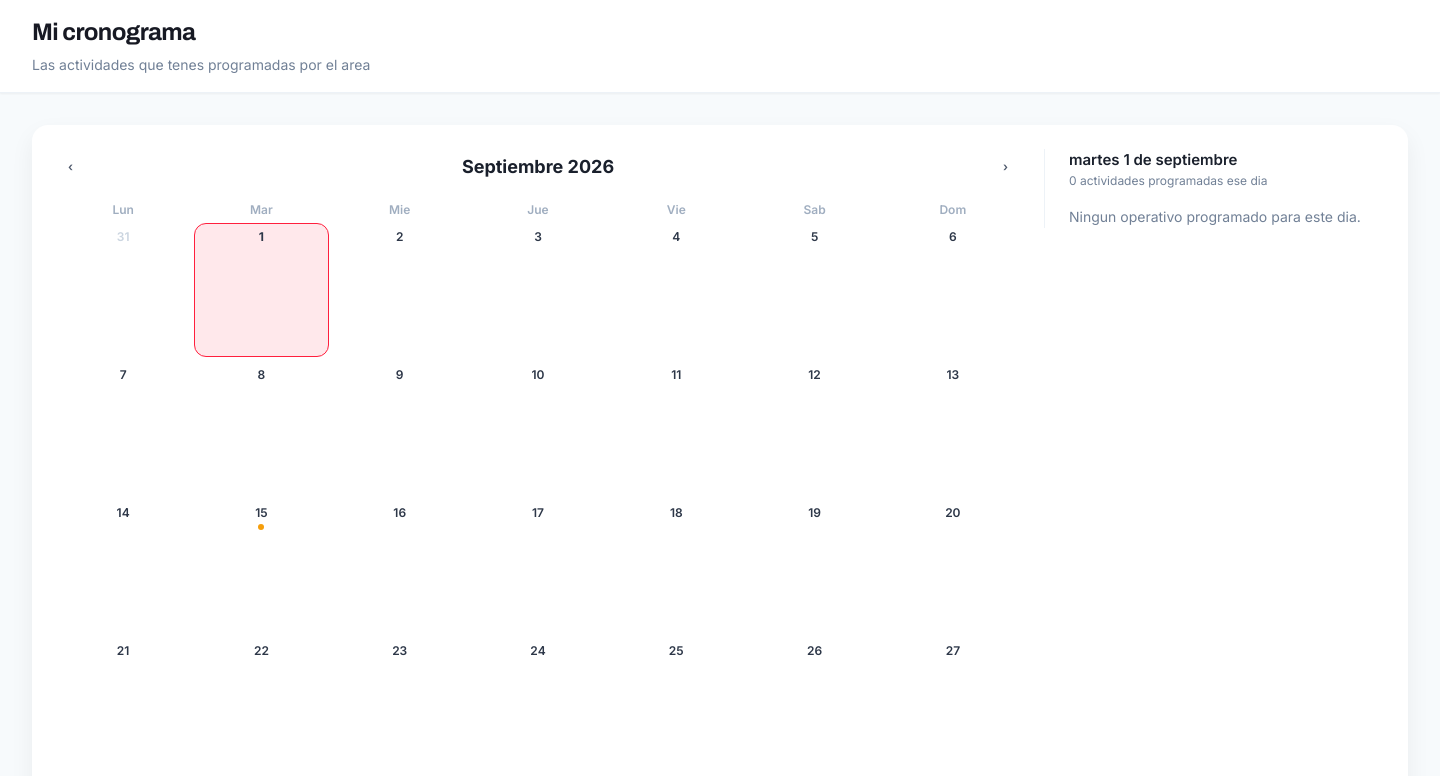
Test: CronogramaPage › muestra con quien se comparte una tarea asignada a varios gestores
Expected: the heading "Septiembre 2026" is shown, [462,154,614,179]
Click the button named "15 de septiembre" at (261, 566), box [194,499,329,634]
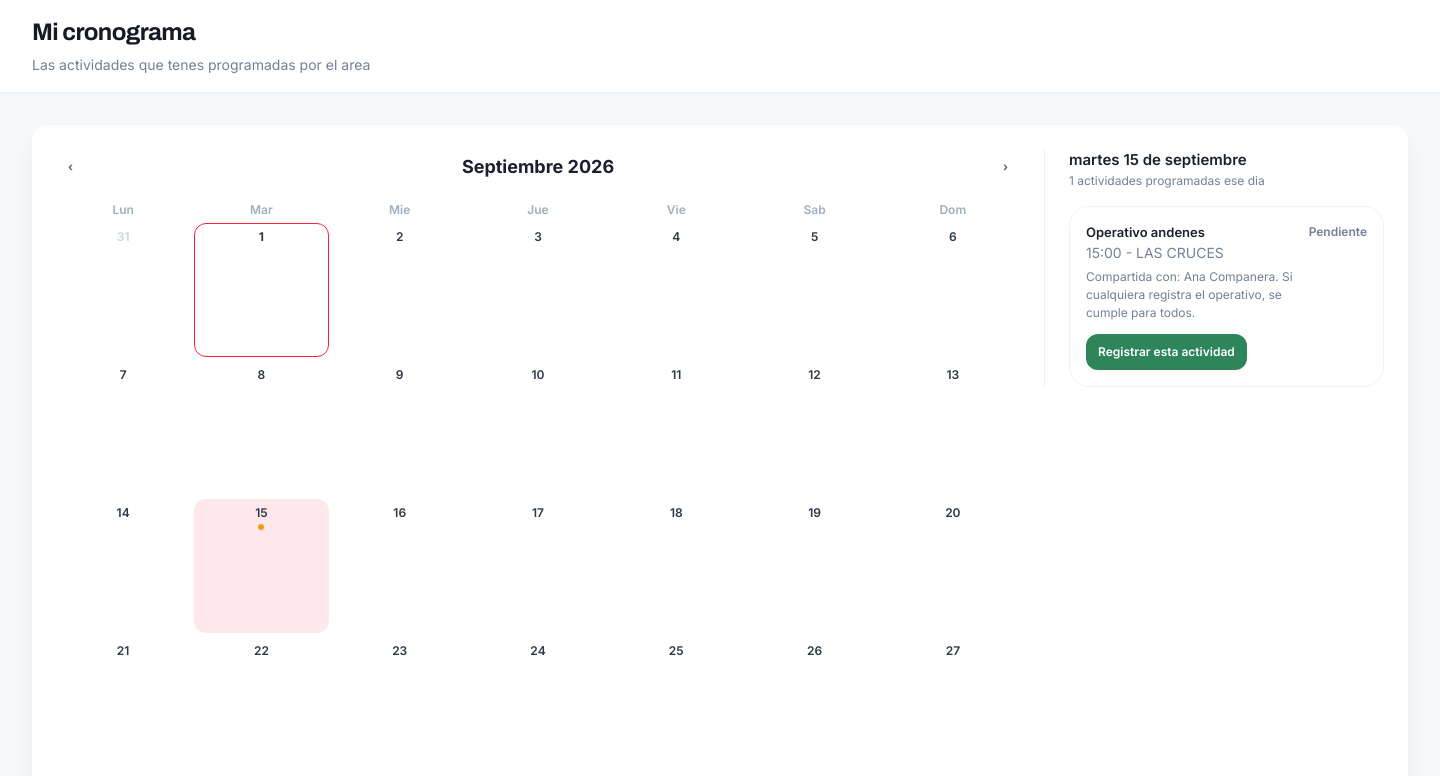
Expected: the text "Compartida con: Ana Companera" is shown, [1086,268,1297,322]
